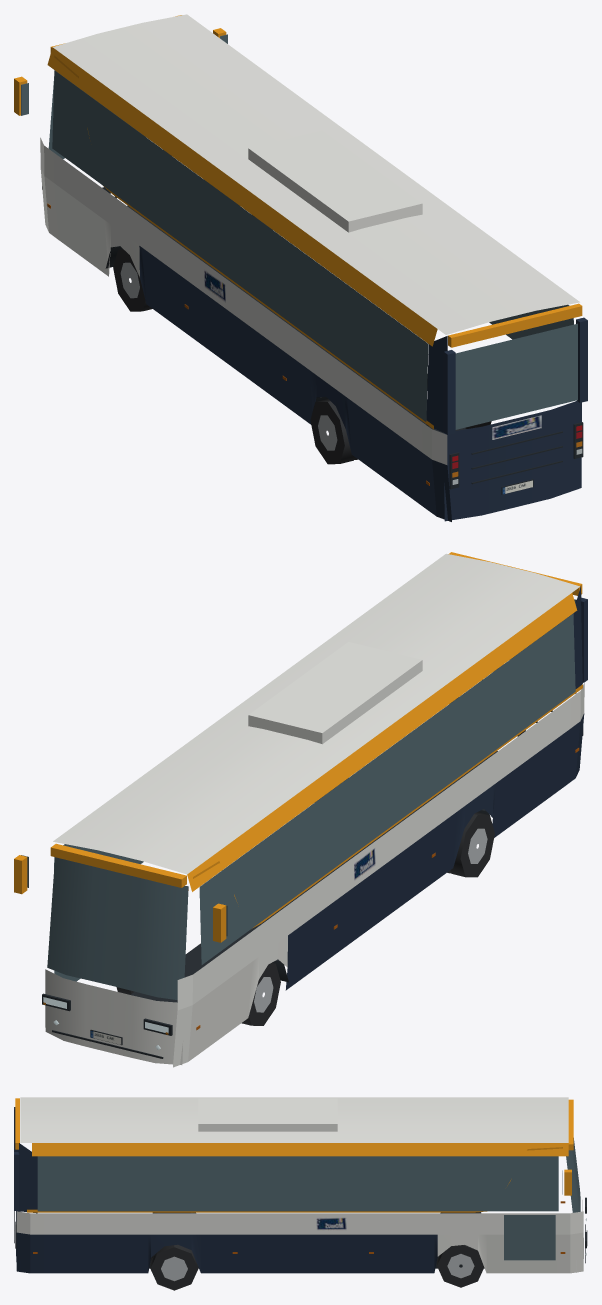
Rendered from Entrega_04_Tourismo_Monbus_LOD2.glb.
3 views of the same model, one above another, from view 1: azimuth 30°, elevation 25°; view 2: azimuth 150°, elevation 25°; view 3: azimuth 270°, elevation 25° (orthographic). The views are drawn at different scales.
Parts seen in each view (by area): view 1: Body, Glass, Wheel_RL, Wheel_FL, MonbusDecals; view 2: Body, Glass, Wheel_RL, Wheel_FL; view 3: Body, Glass, Wheel_RR, Wheel_FR, MonbusDecals.
Part boxes in pixels (x1=…): Body: x1=14, y1=14, x2=587, y2=521; Glass: x1=21, y1=34, x2=577, y2=429; Wheel_RL: x1=310, y1=399, x2=357, y2=464; Wheel_FL: x1=113, y1=248, x2=152, y2=311; MonbusDecals: x1=204, y1=269, x2=541, y2=439; Body: x1=14, y1=552, x2=587, y2=1067; Glass: x1=21, y1=599, x2=575, y2=999; Wheel_RL: x1=447, y1=812, x2=494, y2=877; Wheel_FL: x1=241, y1=963, x2=280, y2=1025; Body: x1=14, y1=1097, x2=587, y2=1273; Glass: x1=37, y1=1138, x2=580, y2=1260; Wheel_RR: x1=150, y1=1244, x2=198, y2=1290; Wheel_FR: x1=437, y1=1245, x2=484, y2=1287; MonbusDecals: x1=316, y1=1217, x2=346, y2=1230.
Size of the model in its own units: 3.54 by 3.61 by 12.2.
Materials: 11 (2 with a texture image).
